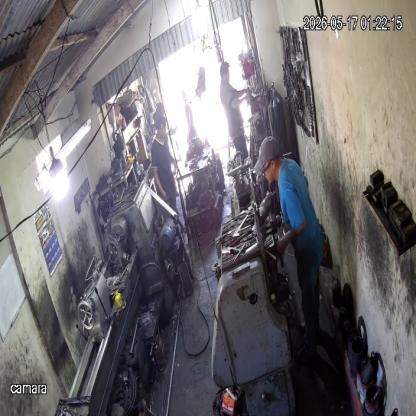lentes: (261, 157, 273, 175)
